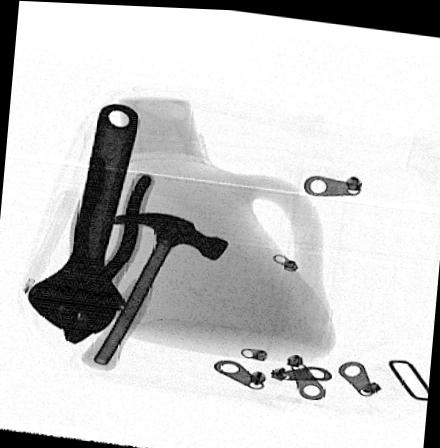Hammer: (77, 210, 228, 373)
Pliers: (56, 149, 157, 344)
Wrench: (29, 100, 144, 333)
